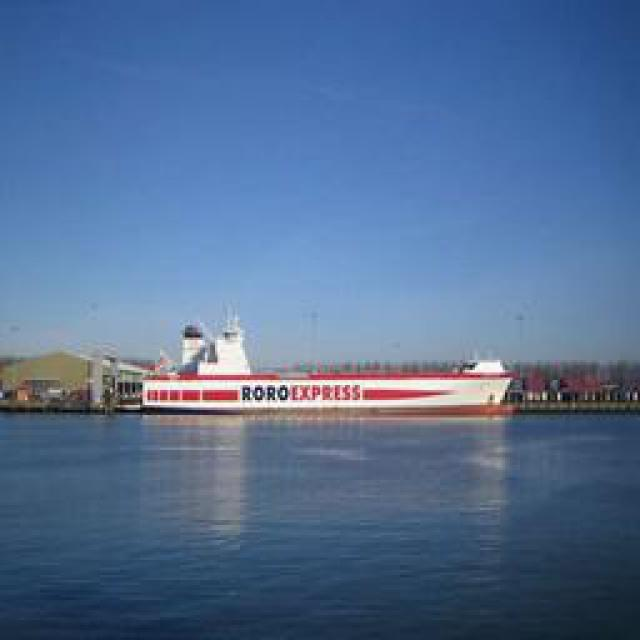Ship: (135, 320, 520, 418)
